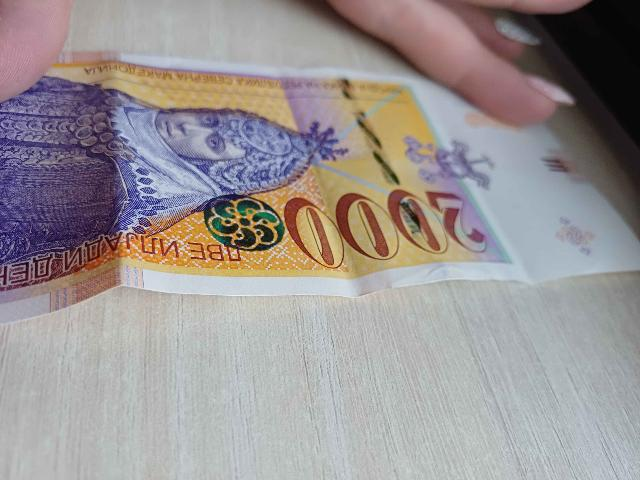note: (0, 55, 527, 309)
